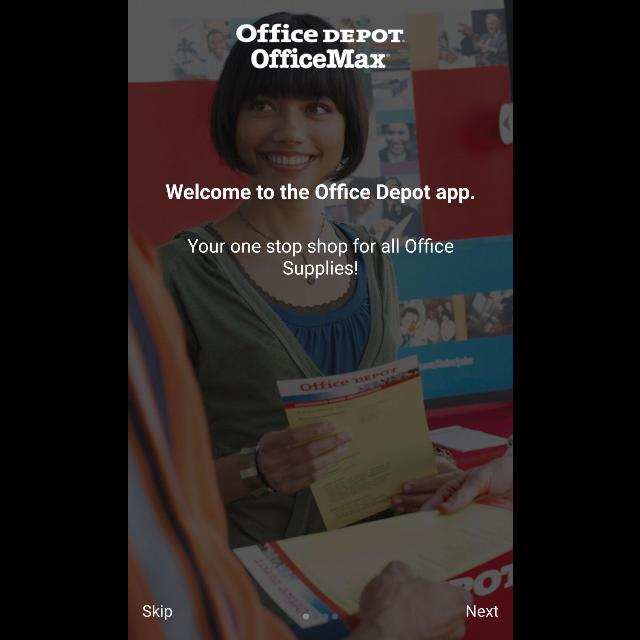backgroundimage: (128, 1, 512, 640)
pageindicator: (302, 612, 338, 620)
text: (186, 238, 454, 278), (236, 23, 404, 68), (164, 184, 473, 204), (142, 604, 172, 620), (466, 605, 498, 617)
